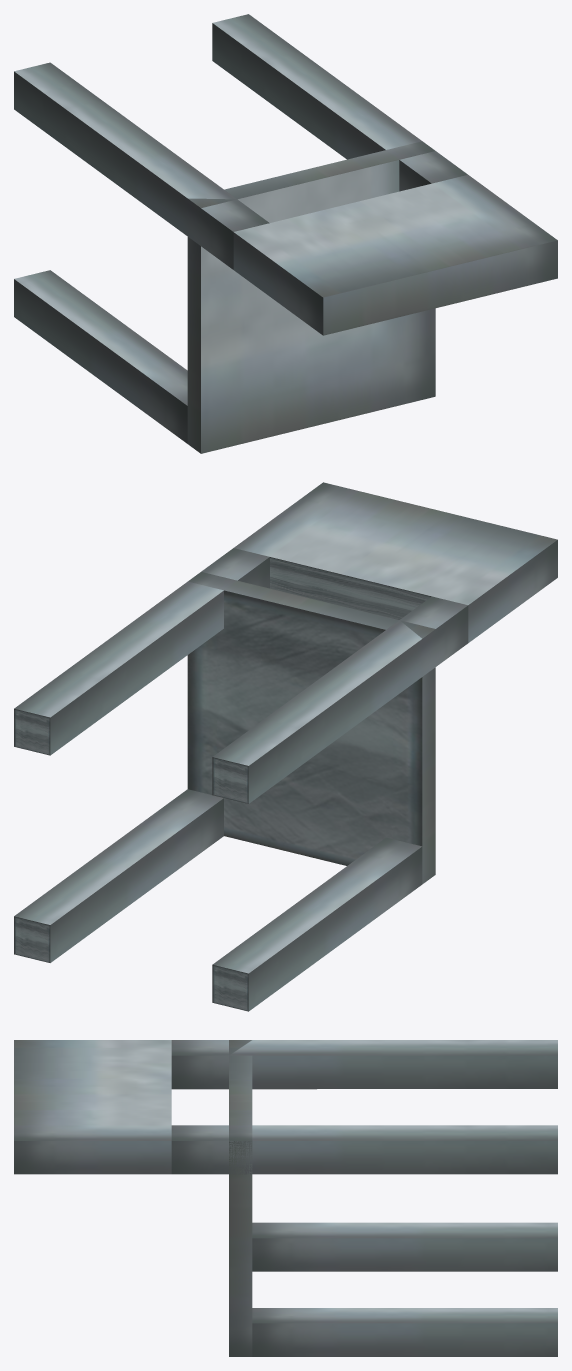
File: chair.glb
3 renders of one model, top to bottom at view 1: azimuth 30°, elevation 25°; view 2: azimuth 150°, elevation 25°; view 3: azimuth 270°, elevation 25°, orthographic. The views are drawn at different scales.
Parts seen in each view (by area): view 1: chair; view 2: chair; view 3: chair.
Boxes of the visible parts, box(x1,y1,x2,y2) form: chair: box(14, 14, 557, 453); chair: box(14, 482, 557, 1011); chair: box(14, 1040, 557, 1356).
Size of the model in its own units: 1.77 by 1.78 by 4.05.
1 material, 1 textured.
